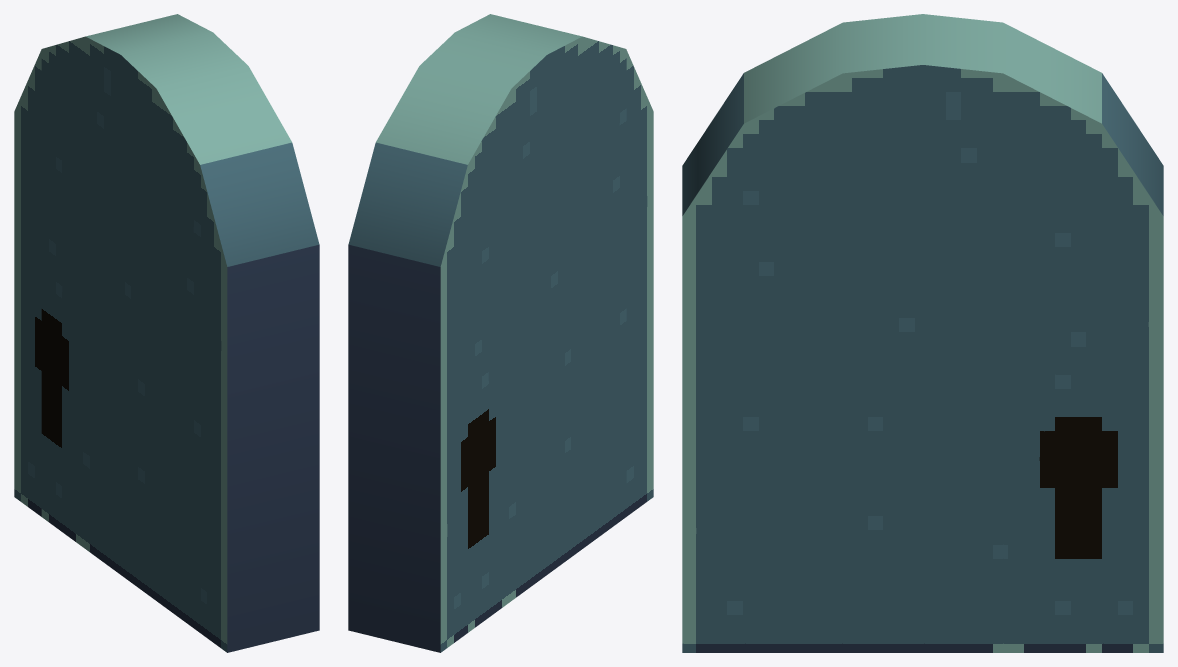
File: doorB.fbx
3 views of the same model, side by side, from view 1: azimuth 30°, elevation 25°; view 2: azimuth 150°, elevation 25°; view 3: azimuth 270°, elevation 25° (orthographic). The views are drawn at different scales.
Parts seen in each view (by area): view 1: doorB; view 2: doorB; view 3: doorB.
Boxes of the visible parts, left/top/right/bottom form: doorB: left=14, top=14, right=319, bottom=652; doorB: left=348, top=14, right=653, bottom=652; doorB: left=682, top=14, right=1163, bottom=652.
Bounding box in the file's own units: 25 × 135 × 100.
1 material, 1 textured.
